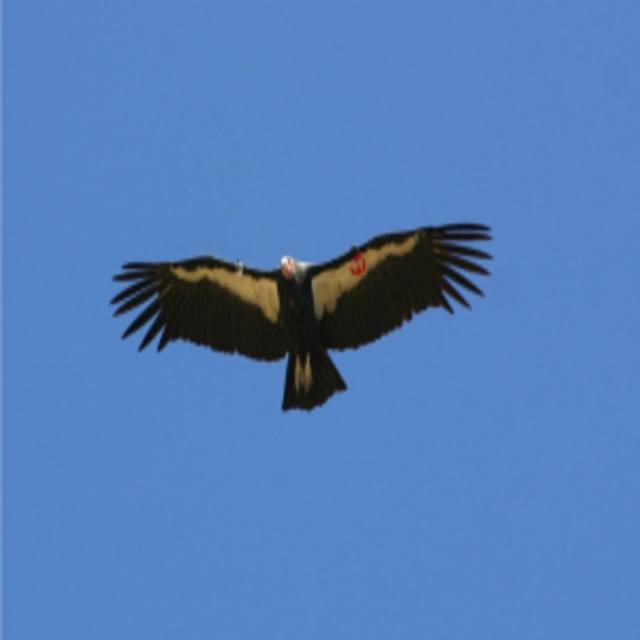Eagle: (102, 218, 491, 413)
